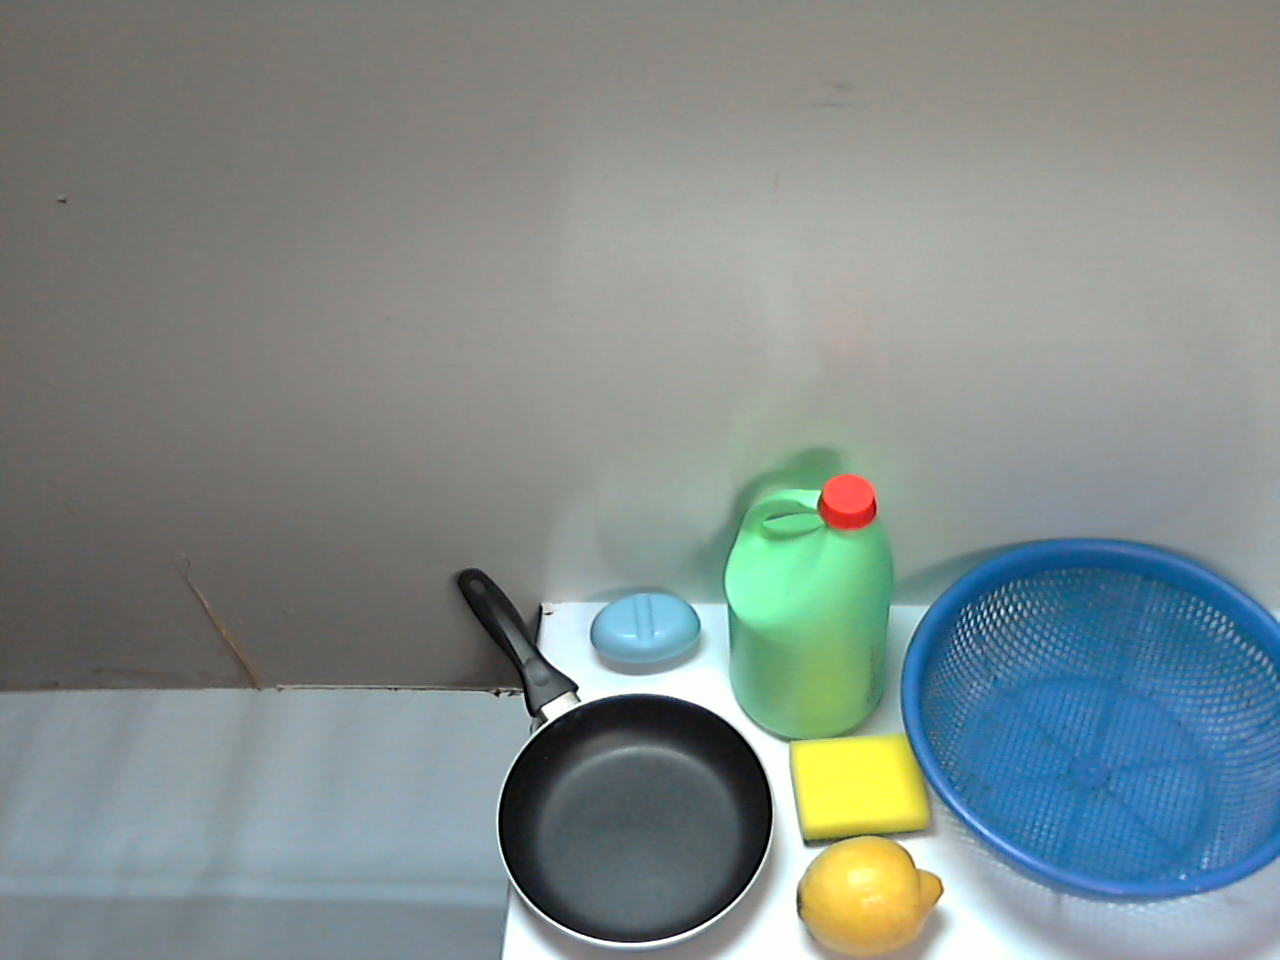borrador: (816, 670, 1029, 788)
cloroplano: (506, 496, 695, 791)
esponja: (873, 763, 1007, 925)
limon: (724, 809, 882, 936)
linterna: (699, 638, 799, 834)
pelota: (596, 775, 701, 891)
